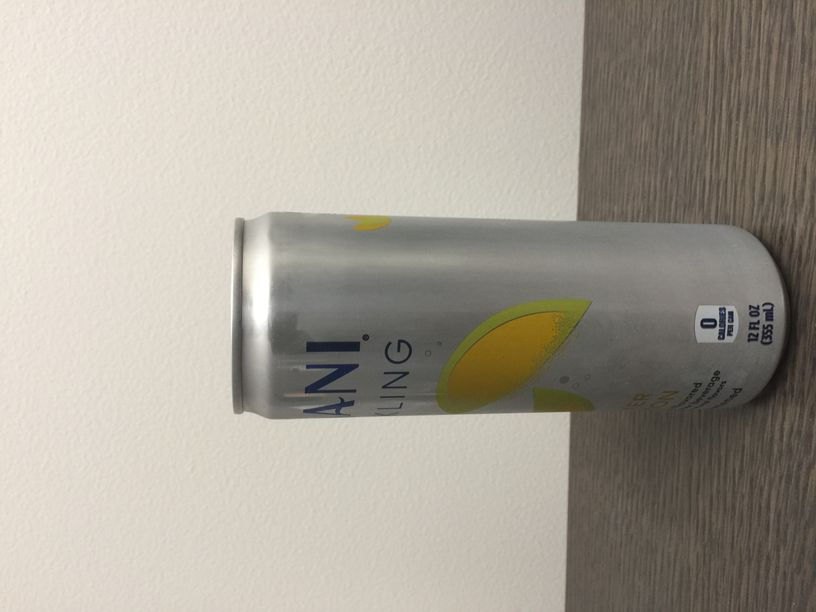lemon: (421, 295, 687, 412), (311, 213, 422, 240)
